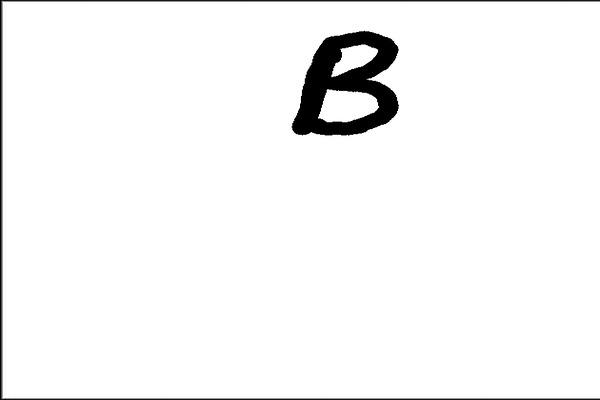B: (283, 25, 406, 145)
